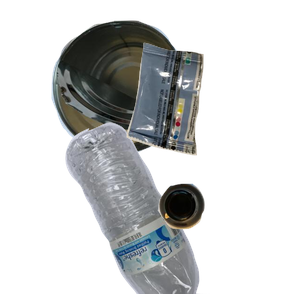glass: (156, 181, 300, 300)
metal: (49, 18, 229, 164)
plastic: (63, 120, 263, 300)
trash: (124, 40, 300, 188)
